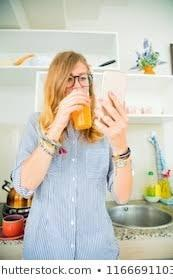Drinking: (50, 51, 94, 130)
